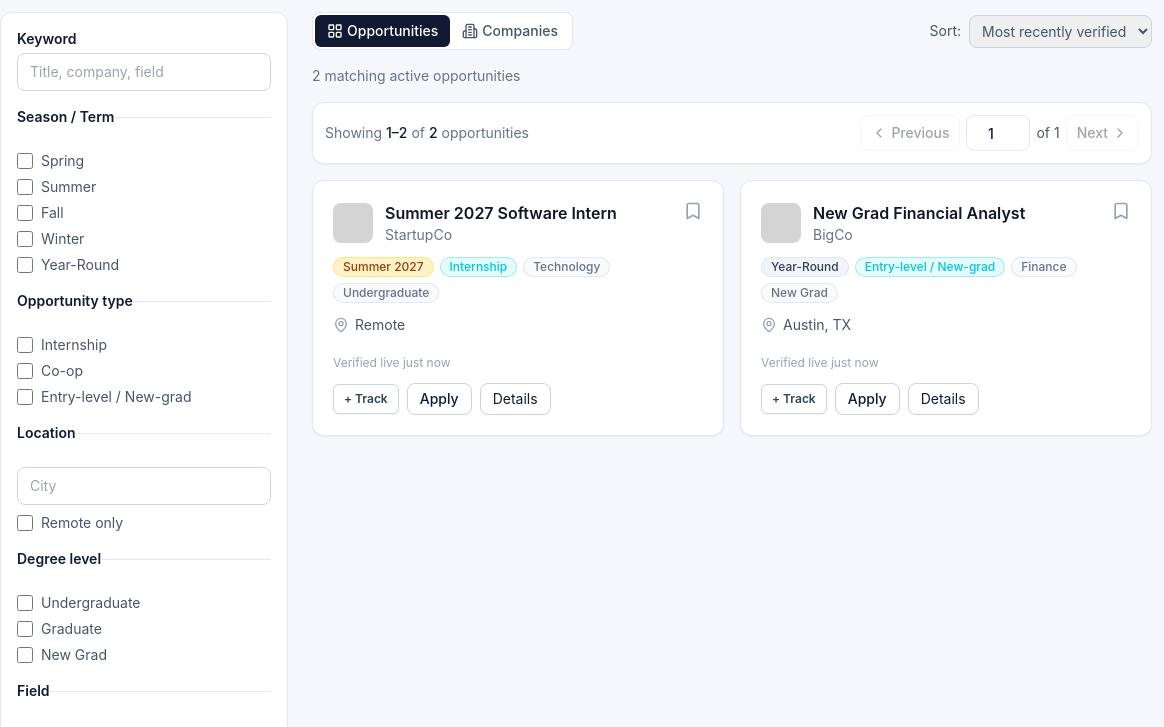
Test: Browse page › filters by Summer season via the sidebar Season / Term checkbox
Check: the link "Summer 2027 Software Intern" is shown, box [385,201,617,225]
Click the checkbox labelled "Summer" at [25, 187], box [17,179,33,195]
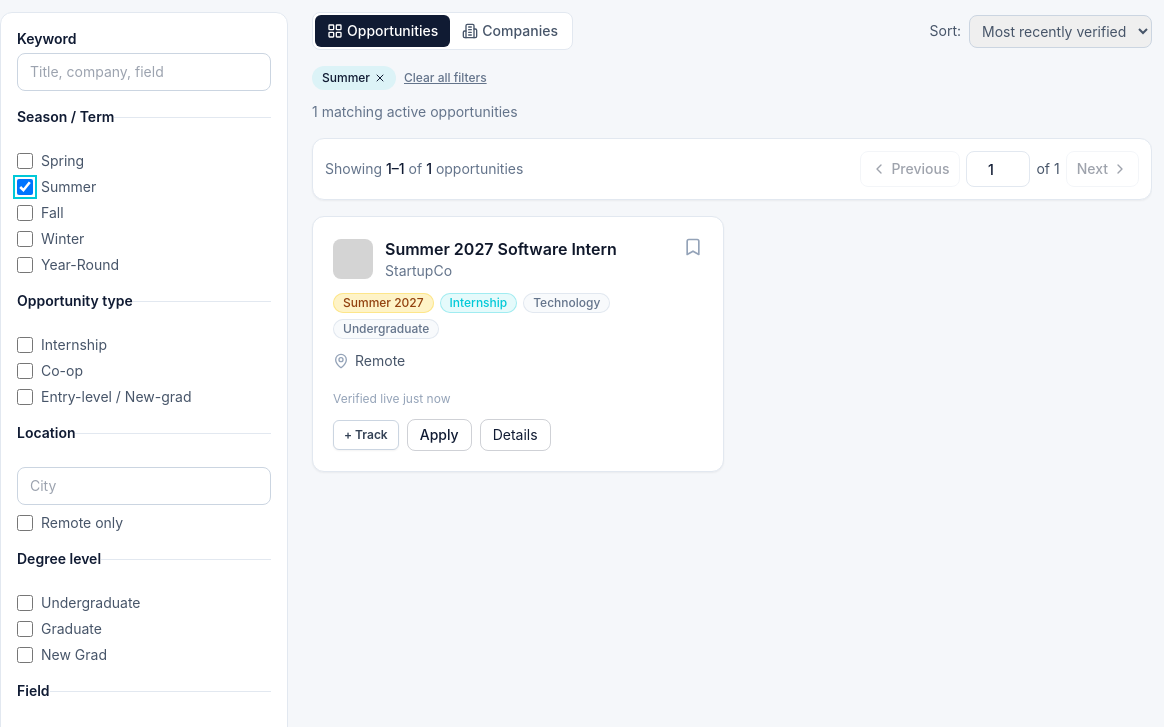
Check: the link "Summer 2027 Software Intern" is shown, box [385,237,617,261]
Check: the link "New Grad Financial Analyst" is gone
